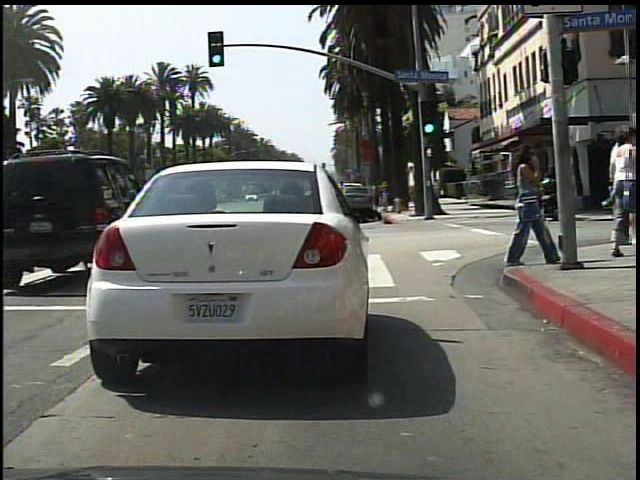person: (496, 139, 552, 271), (590, 121, 640, 262)
